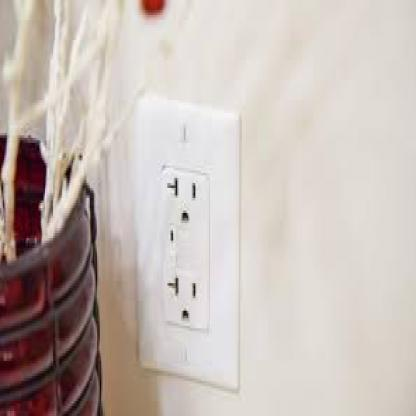OUTLET: (135, 96, 242, 389)
